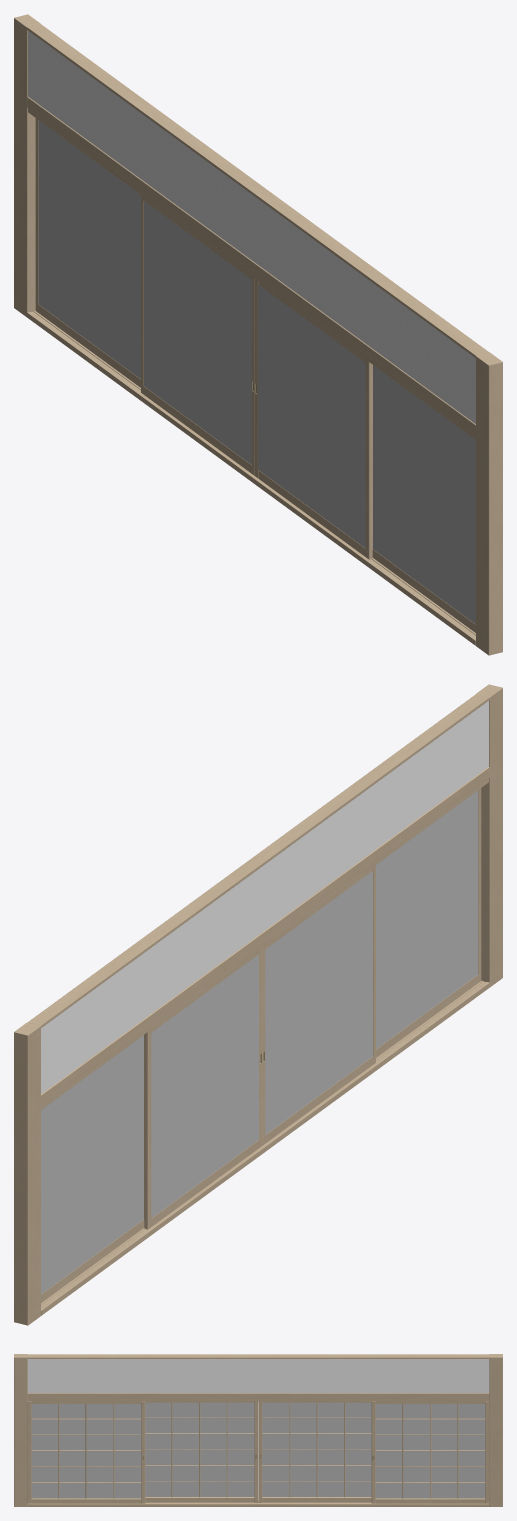
Rendered from left-side-door.gltf.
The picture shows the model from 3 angles, top to bottom: view 1: azimuth 30°, elevation 25°; view 2: azimuth 150°, elevation 25°; view 3: azimuth 270°, elevation 25°; orthographic projection. The views are drawn at different scales.
Visible parts, largest first — view 1: Wall, Shoji Screen.002, Shoji Screen, Shoji Screen.001, Shoji Screen.003, Post, Wall Cap, Post.001, Nageshi, Sill(Shikii), Kamoi; view 2: Wall, Shoji Screen, Shoji Screen.002, Shoji Screen.003, Shoji Screen.001, Post.001, Wall Cap, Post, Nageshi, Sill(Shikii), Kamoi; view 3: Wall, Shoji Screen.001, Shoji Screen.003, Shoji Screen, Shoji Screen.002, Nageshi, Wall Cap, Post, Post.001, Sill(Shikii), Kamoi.
Boxes of the visible parts, box(x1,y1,x2,y2) form: Wall: box(28, 31, 475, 423); Shoji Screen.002: box(255, 279, 372, 559); Shoji Screen: box(141, 195, 254, 475); Shoji Screen.001: box(35, 118, 140, 387); Shoji Screen.003: box(372, 365, 475, 632); Post: box(476, 352, 502, 655); Wall Cap: box(27, 24, 489, 357); Post.001: box(14, 14, 40, 317); Nageshi: box(27, 97, 475, 435); Sill(Shikii): box(27, 310, 475, 645); Kamoi: box(28, 108, 475, 439); Wall: box(41, 701, 488, 1093); Shoji Screen: box(144, 949, 261, 1229); Shoji Screen.002: box(262, 865, 375, 1145); Shoji Screen.003: box(376, 788, 481, 1057); Shoji Screen.001: box(41, 1035, 144, 1302); Post.001: box(14, 1022, 40, 1325); Wall Cap: box(27, 694, 489, 1027); Post: box(476, 684, 502, 987); Nageshi: box(41, 767, 489, 1105); Sill(Shikii): box(41, 980, 489, 1315); Kamoi: box(41, 779, 488, 1109); Wall: box(27, 1359, 489, 1392); Shoji Screen.001: box(371, 1401, 489, 1503); Shoji Screen.003: box(27, 1401, 145, 1503); Shoji Screen: box(258, 1401, 371, 1502); Shoji Screen.002: box(145, 1401, 258, 1502); Nageshi: box(27, 1393, 489, 1398); Wall Cap: box(27, 1354, 489, 1358); Post: box(14, 1354, 27, 1506); Post.001: box(489, 1354, 502, 1506); Sill(Shikii): box(27, 1501, 489, 1506); Kamoi: box(27, 1399, 489, 1401).
Size of the model in its own units: 0.1051 by 2.03 by 6.03.
